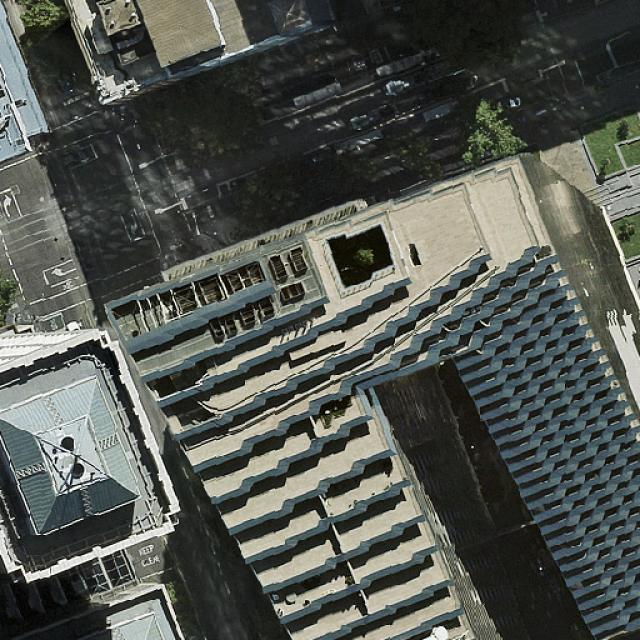Bike-Symbols: (48, 316, 59, 331), (61, 280, 73, 291), (138, 210, 146, 219)
